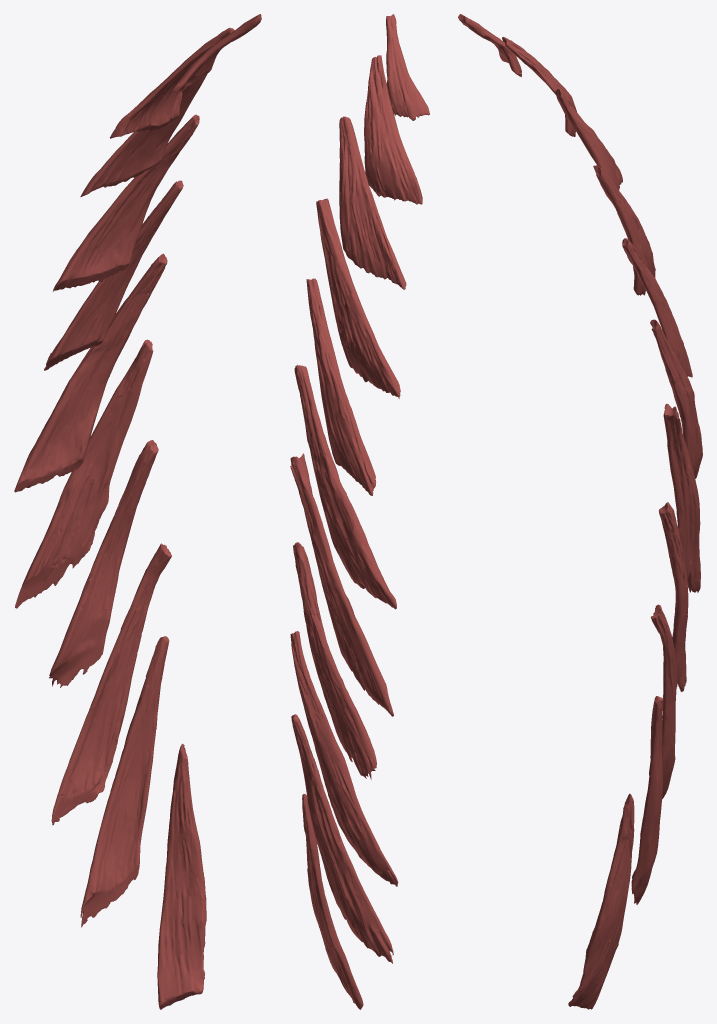
File: FMA74075.glb
3 views of the same model, side by side, from view 1: azimuth 30°, elevation 25°; view 2: azimuth 150°, elevation 25°; view 3: azimuth 270°, elevation 25° (orthographic). The views are drawn at different scales.
Parts seen in each view (by area): view 1: FMA74075; view 2: FMA74075; view 3: FMA74075.
Part boxes in pixels (x1=…): FMA74075: x1=14, y1=14, x2=261, y2=1009; FMA74075: x1=290, y1=14, x2=429, y2=1009; FMA74075: x1=458, y1=14, x2=702, y2=1009.
Bounding box in the file's own units: 0.0457 × 0.3193 × 0.0702.
